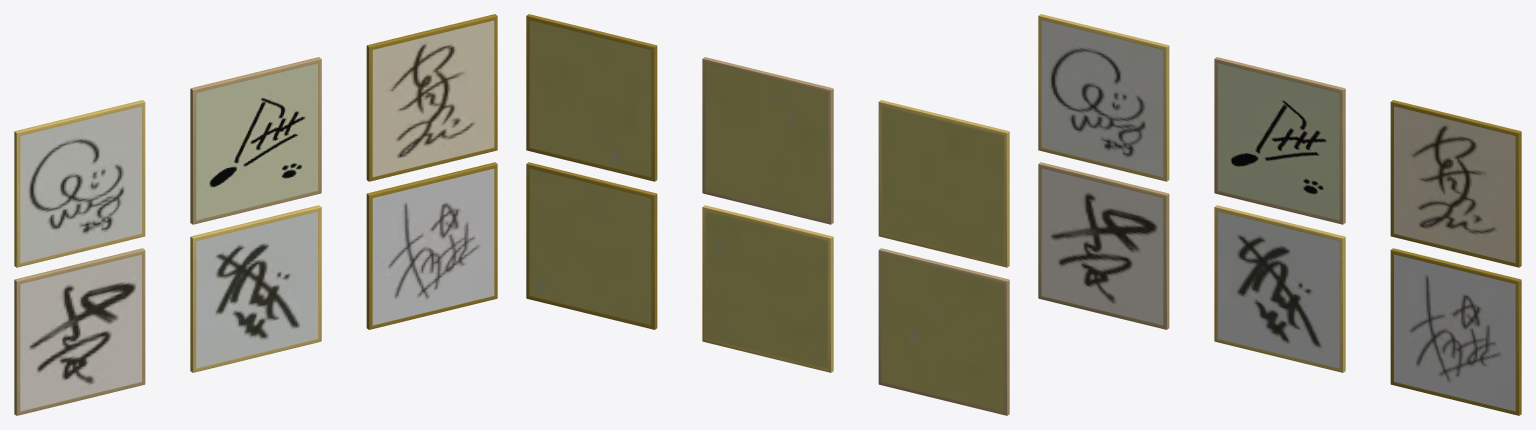
The picture shows the model from 3 angles, left to right: view 1: azimuth 30°, elevation 25°; view 2: azimuth 150°, elevation 25°; view 3: azimuth 330°, elevation 25°; orthographic projection.
Bounding box in the file's own units: 16.78 × 9.43 × 0.1556.
3 materials, 3 textured.
